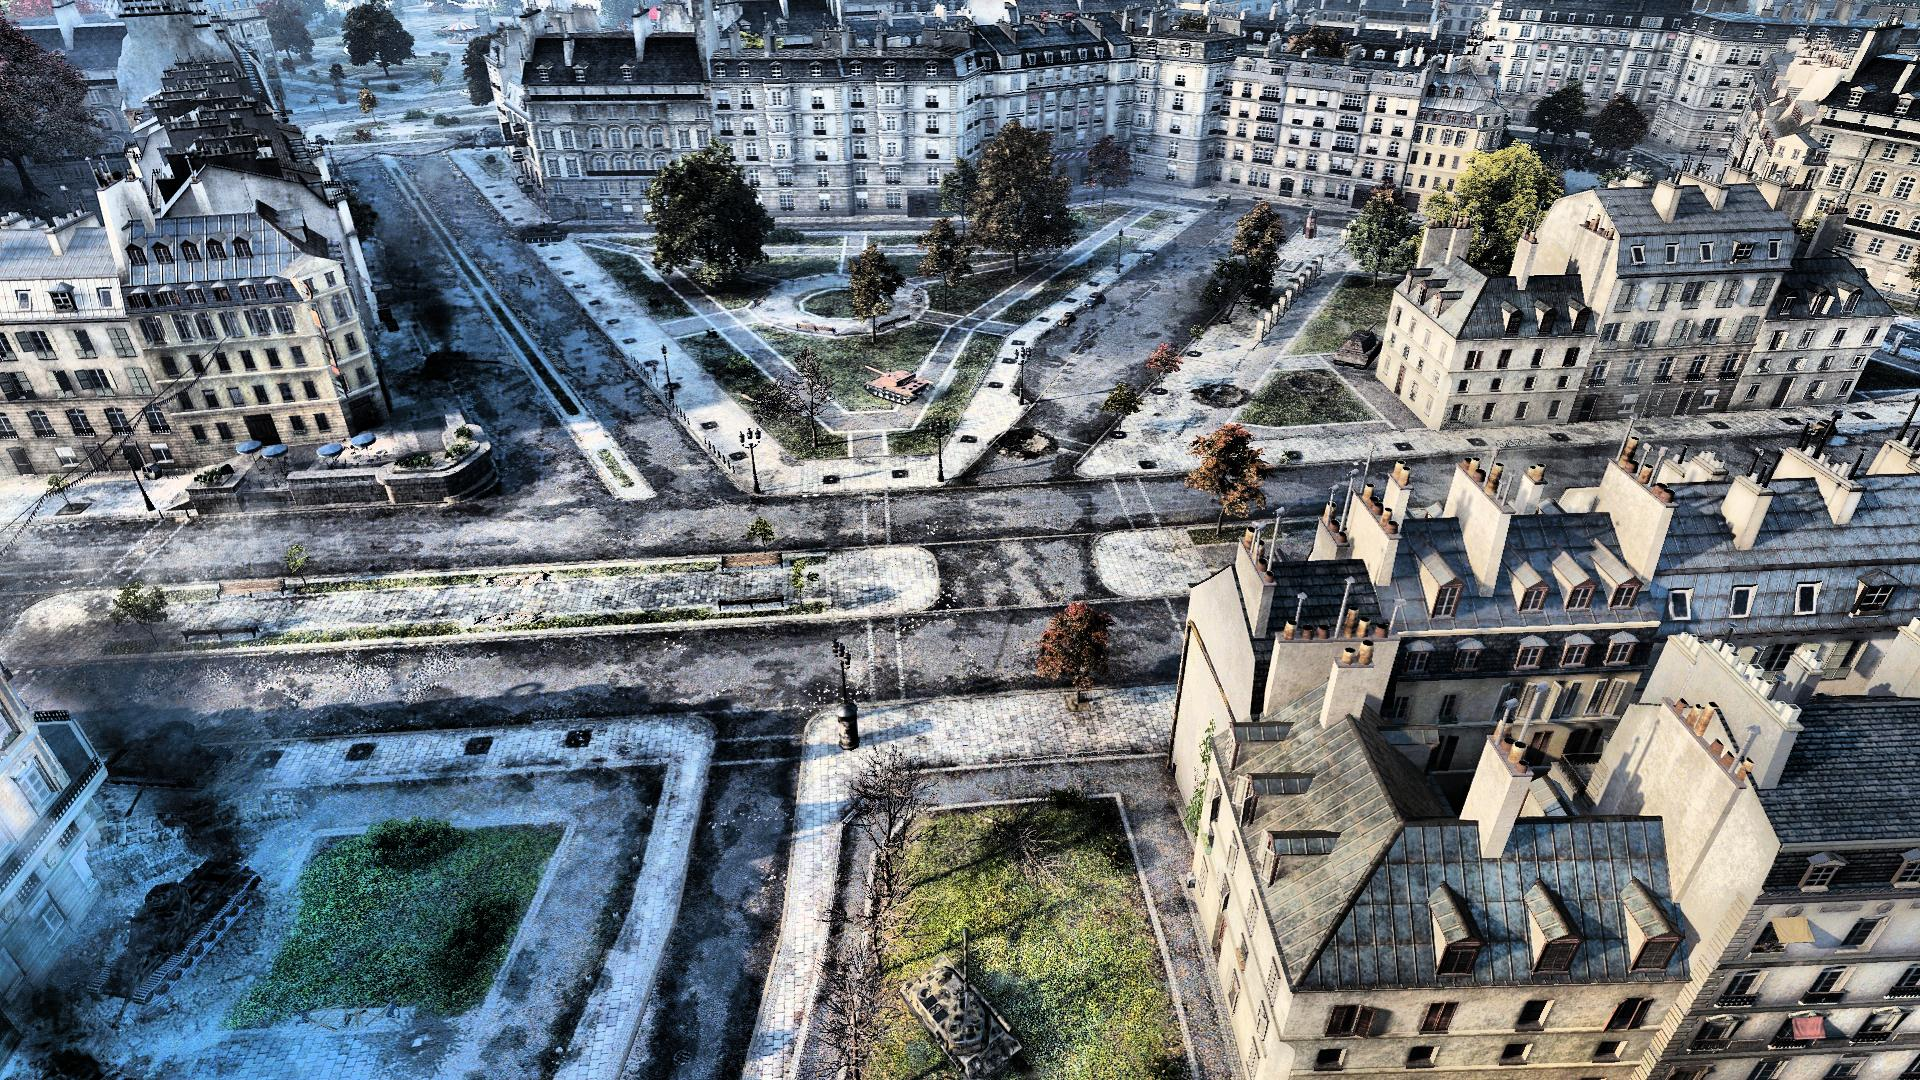military-vehicle: (905, 924, 1027, 1080), (861, 363, 936, 405), (419, 348, 501, 381), (1331, 323, 1383, 368), (518, 216, 580, 243)
